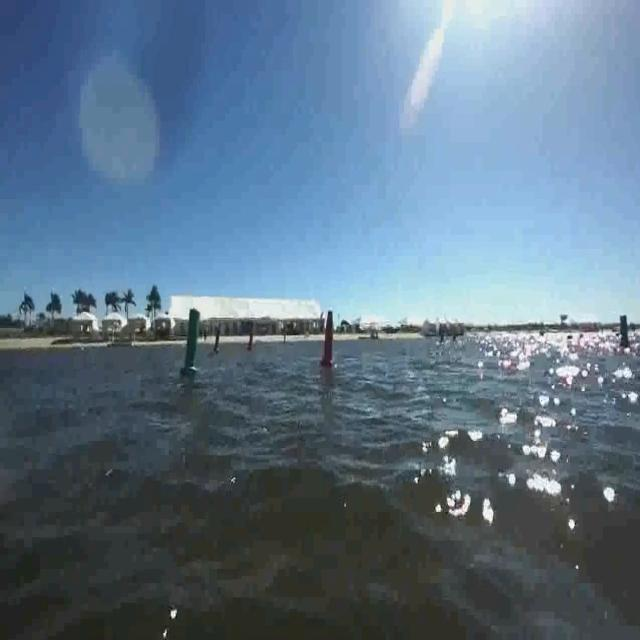green-column-buoy: (179, 306, 203, 376), (618, 313, 632, 347), (212, 325, 224, 355)
red-column-buoy: (319, 310, 336, 371), (247, 331, 256, 353)
